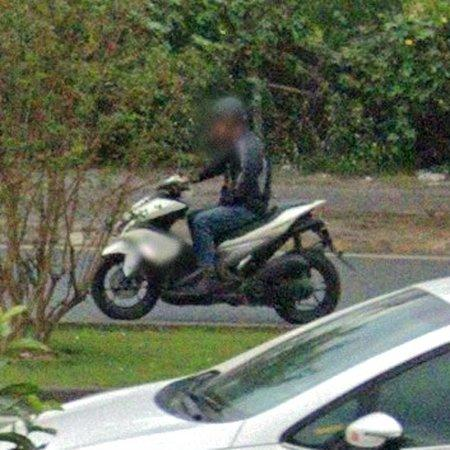motorcycles: (94, 171, 348, 326)
